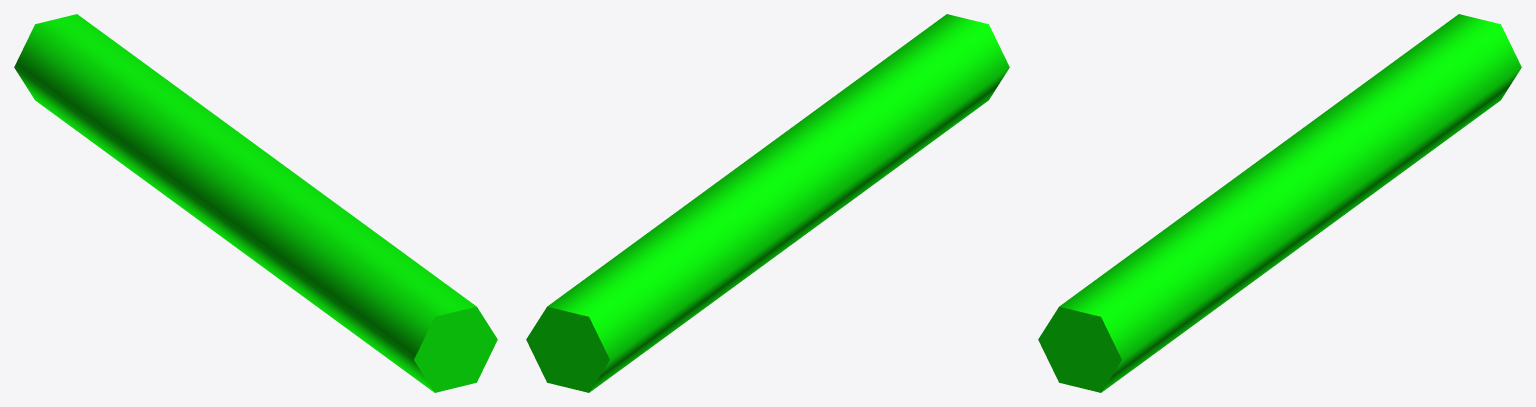
File: SM_Lamp_01_02_Collider.fbx
3 renders of one model, left to right at view 1: azimuth 30°, elevation 25°; view 2: azimuth 150°, elevation 25°; view 3: azimuth 330°, elevation 25°, orthographic.
Visible parts, largest first — view 1: SM_Lamp_01_02_Collider; view 2: SM_Lamp_01_02_Collider; view 3: SM_Lamp_01_02_Collider.
Boxes of the visible parts, box(x1,y1,x2,y2) form: SM_Lamp_01_02_Collider: box(14, 14, 497, 392); SM_Lamp_01_02_Collider: box(526, 14, 1009, 392); SM_Lamp_01_02_Collider: box(1038, 14, 1521, 392).
Size of the model in its own units: 3.77 by 3.26 by 31.04.
